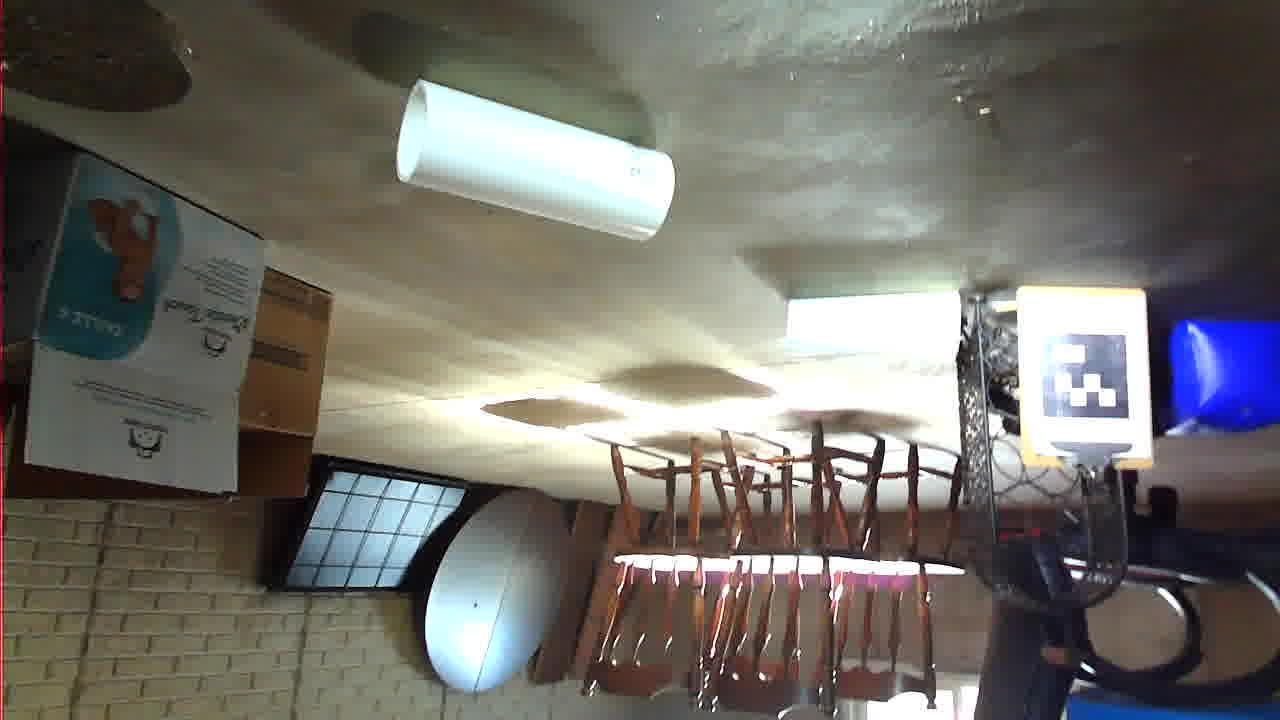coral: (605, 479, 883, 644), (319, 360, 494, 428)
